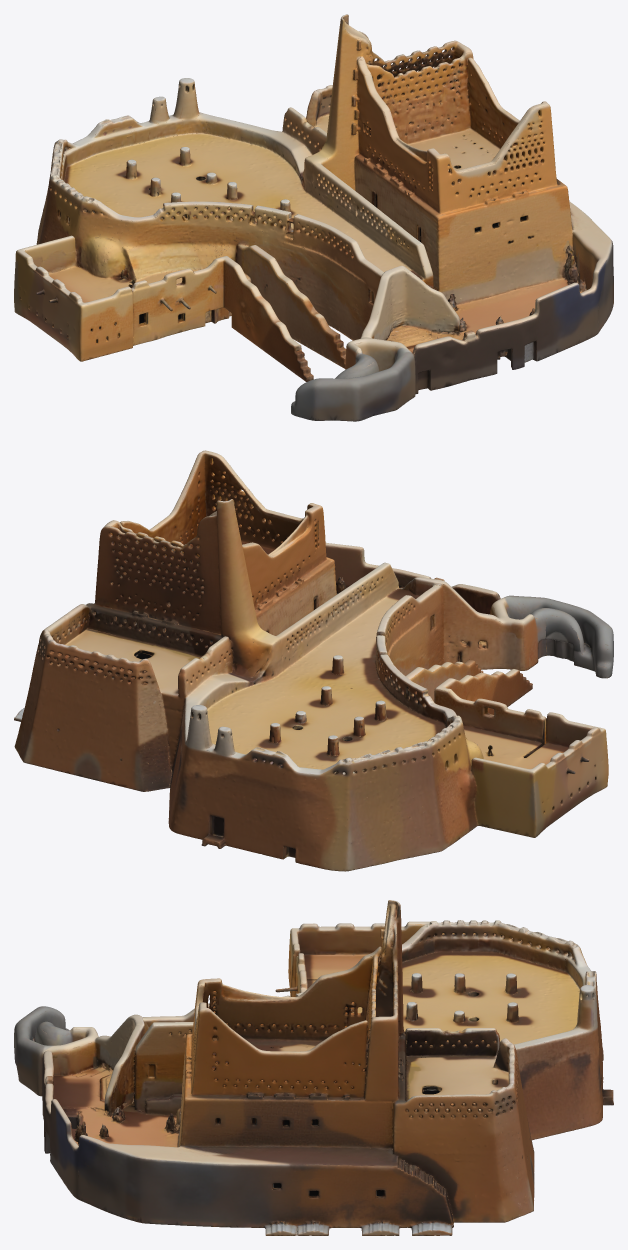
The model's file is Meshy_AI_Desert_Citadel_0210114247_texture.glb.
The picture shows the model from 3 angles, top to bottom: view 1: azimuth 30°, elevation 25°; view 2: azimuth 150°, elevation 25°; view 3: azimuth 270°, elevation 25°; orthographic projection. The views are drawn at different scales.
Bounding box in the file's own units: 2 × 0.8994 × 1.99.
Materials: 1 (1 with a texture image).
